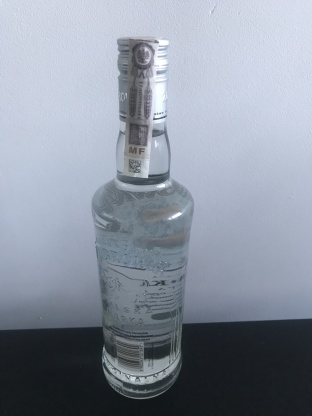nakretka: (114, 31, 171, 126)
